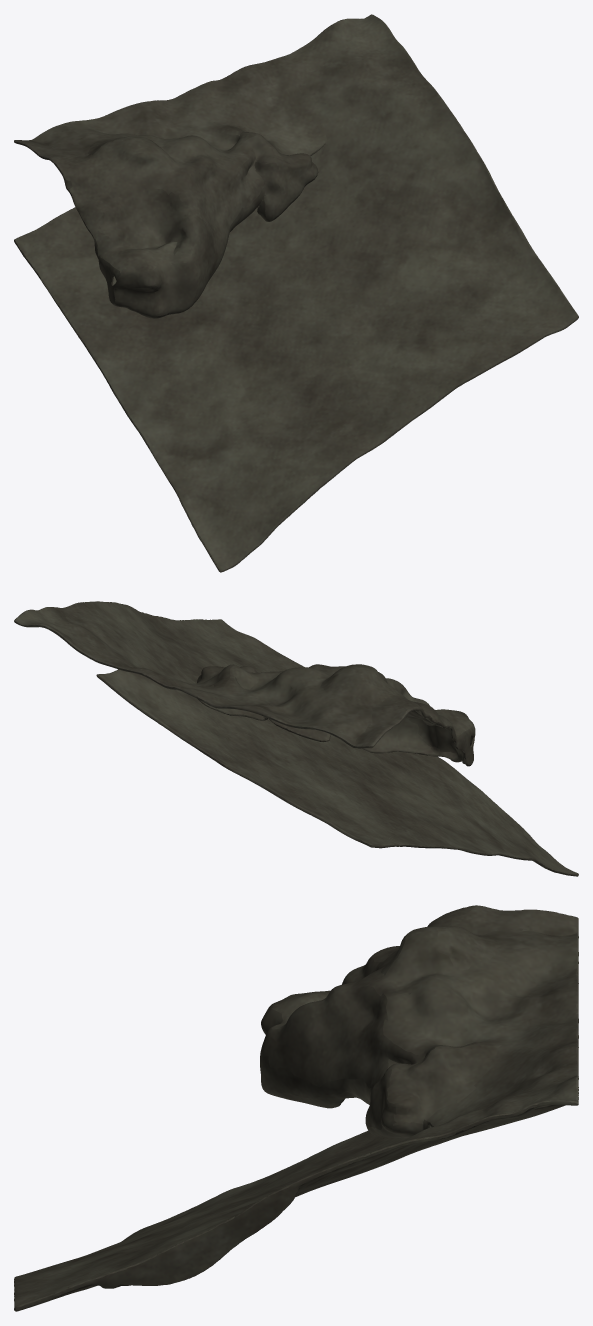
3 renders of one model, top to bottom at view 1: azimuth 30°, elevation 25°; view 2: azimuth 150°, elevation 25°; view 3: azimuth 270°, elevation 25°, orthographic. The views are drawn at different scales.
Visible parts, largest first — view 1: world; view 2: world; view 3: world.
Boxes of the visible parts, x1=… form: world: x1=14, y1=14, x2=578, y2=572; world: x1=14, y1=601, x2=578, y2=876; world: x1=14, y1=905, x2=578, y2=1311.
Size of the model in its own units: 5000 by 4284 by 4999.
Materials: 1 (1 with a texture image).
